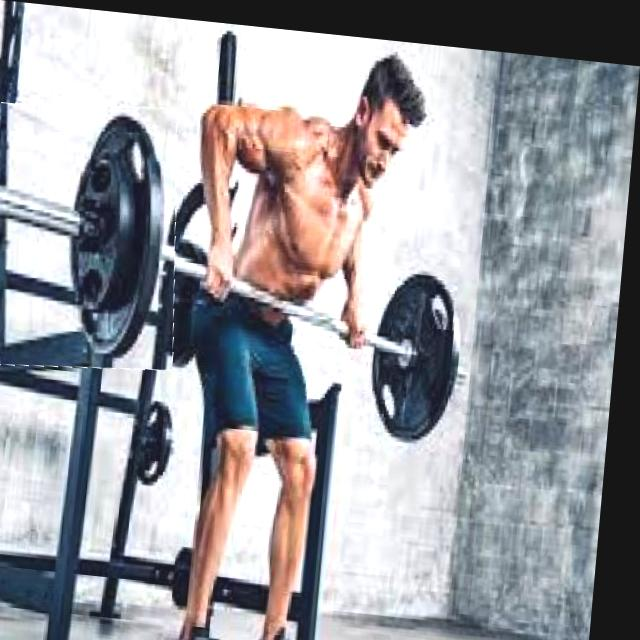barbell: (1, 94, 193, 376)
